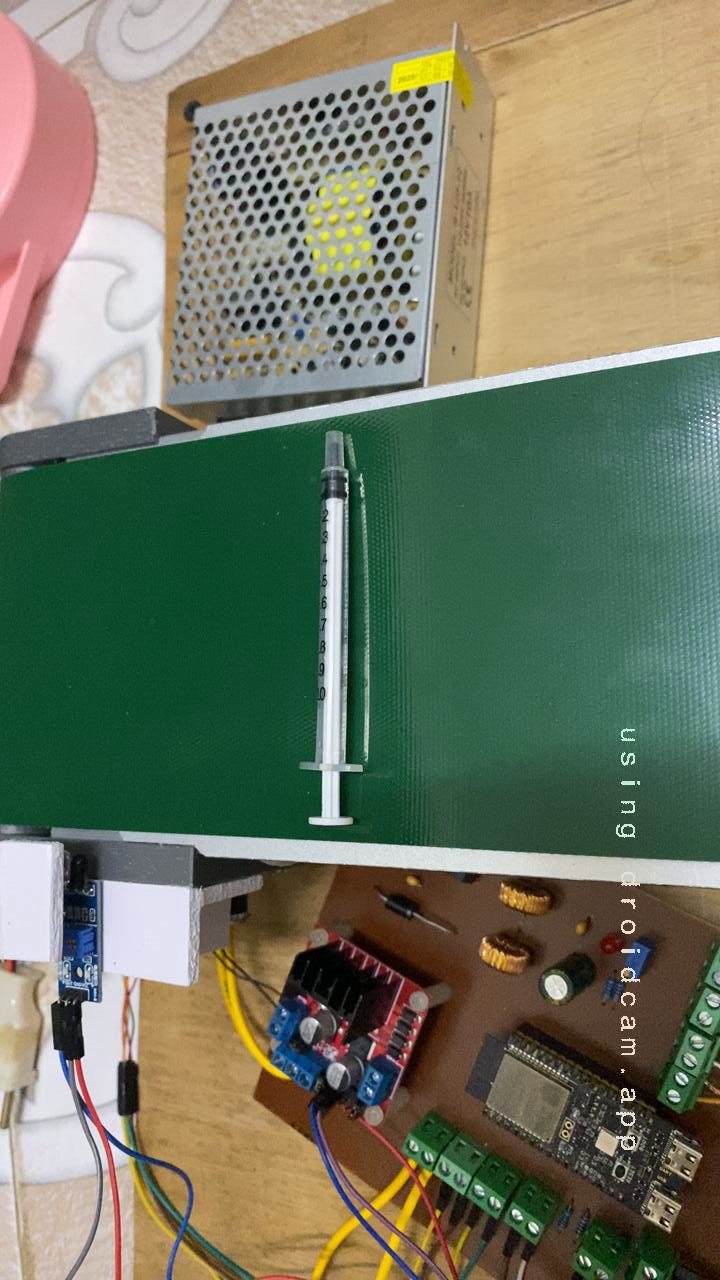syringe: (250, 424, 407, 848)
